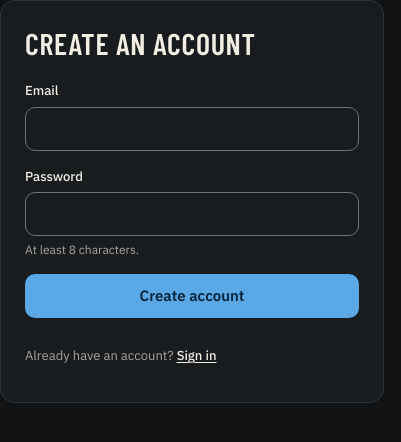
Test: AuthForm › shows a field error beside its field
Step 1. Type "a@example.test" into the field labelled "Email" → (192,128), box [25,106,359,150]
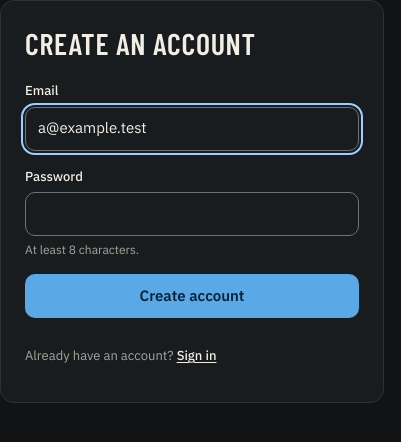
Step 2. Type "12345678" into the password field labelled "Password" → (192,214), box [25,192,359,236]
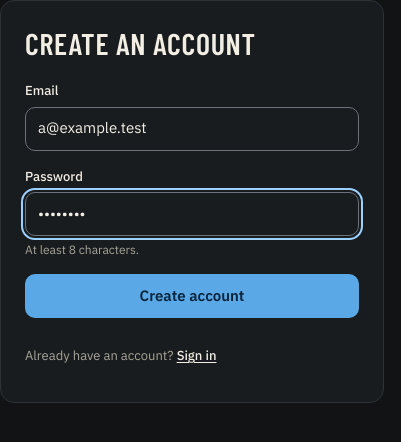
Step 3. Click the button with test id "auth-submit" → (192,296), box [25,274,359,318]
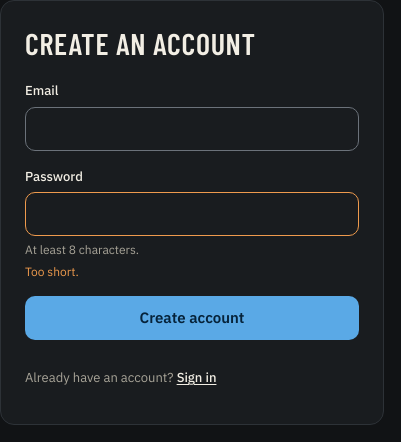
Expected: the text with test id "auth-password-error" reads "Too short.", [25,264,79,279]
